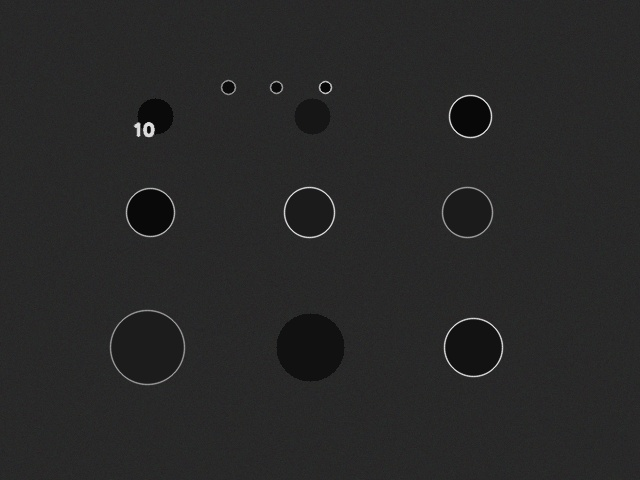hole: (110, 310, 184, 384), (276, 313, 344, 381), (444, 318, 502, 376), (284, 187, 334, 237), (442, 187, 492, 237), (126, 188, 174, 236), (449, 95, 491, 137), (137, 98, 173, 134), (294, 98, 330, 134), (221, 80, 235, 94), (270, 81, 282, 93), (319, 81, 331, 93)
